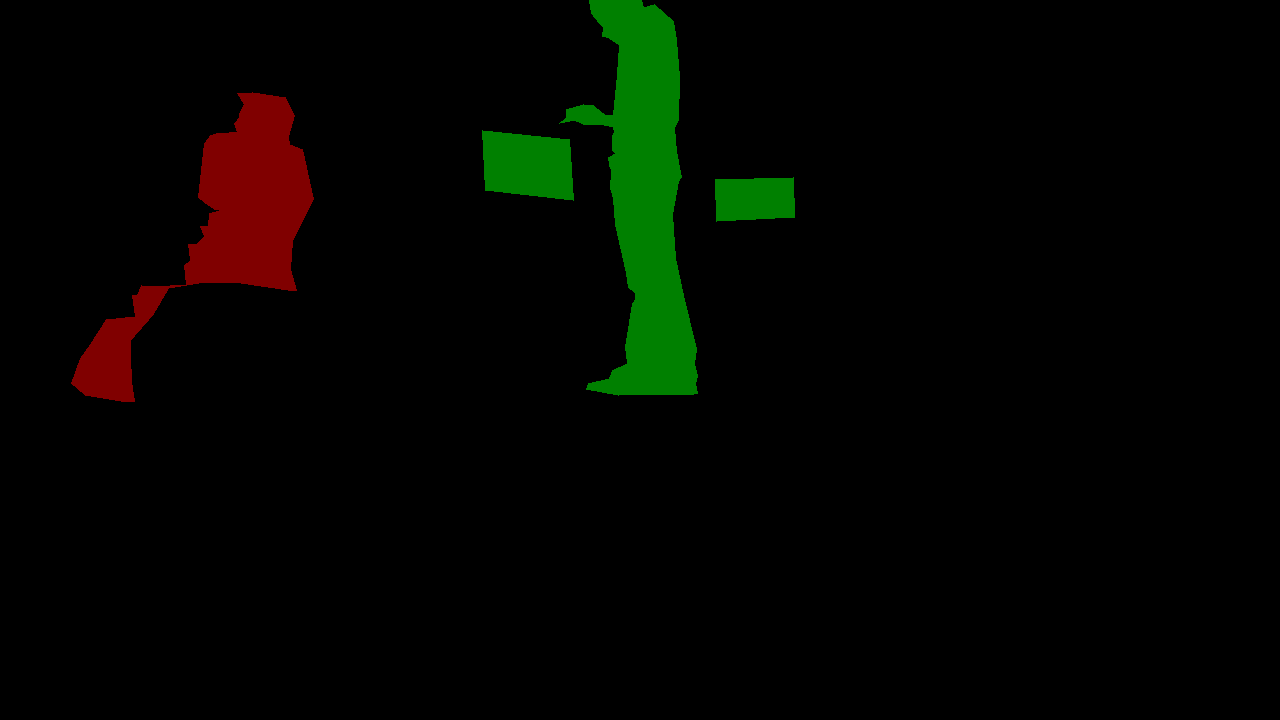person: (71, 92, 313, 401), (559, 0, 697, 395)
tvmonitor: (482, 130, 573, 200), (715, 177, 794, 221)
